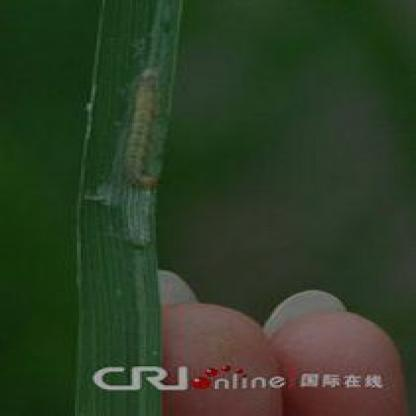leaf-folder: (115, 62, 218, 200)
